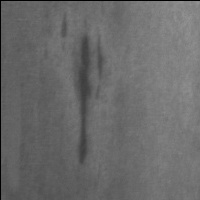inclusion: (71, 29, 111, 169)
